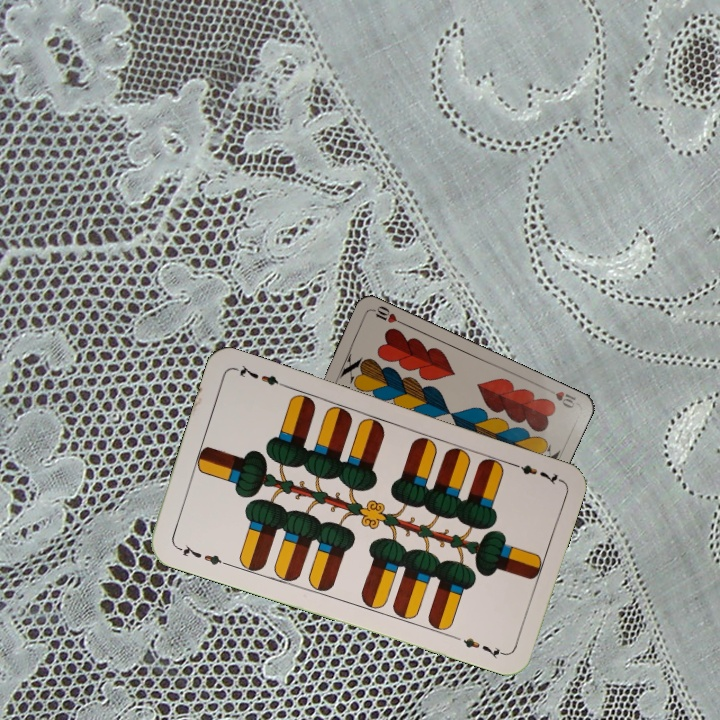E7: (505, 458, 562, 487), (172, 540, 230, 568)
H10: (541, 384, 579, 411)
